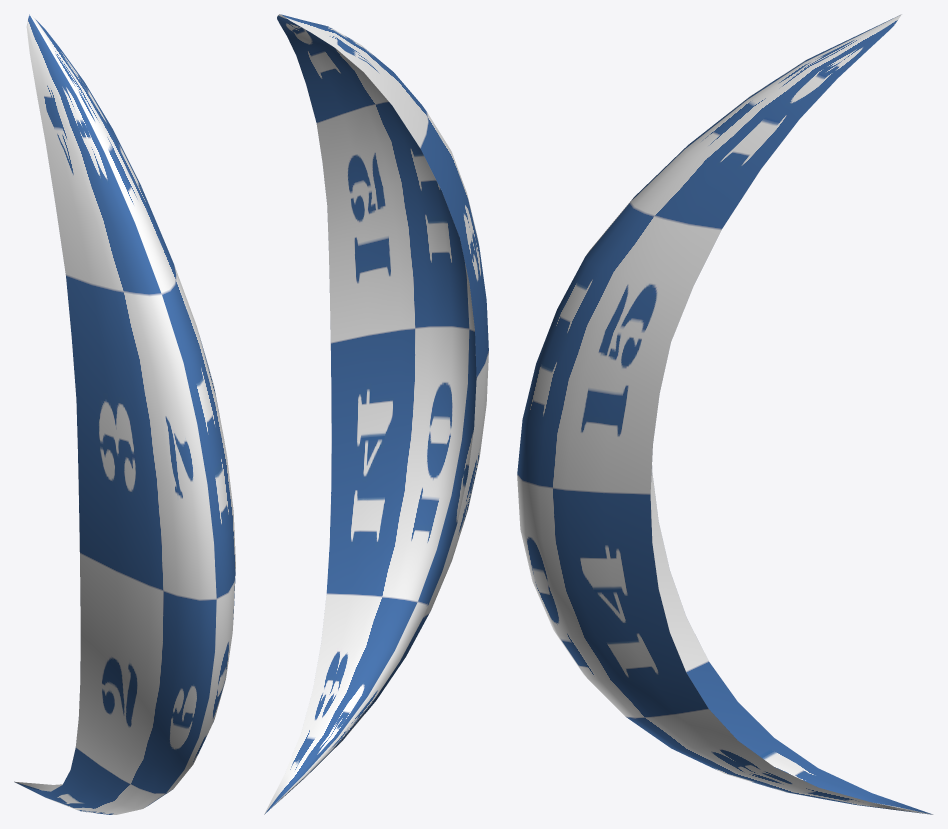
File: Ne_Spl_ClawTrail_01.fbx
3 renders of one model, left to right at view 1: azimuth 30°, elevation 25°; view 2: azimuth 150°, elevation 25°; view 3: azimuth 270°, elevation 25°, orthographic. The views are drawn at different scales.
Parts seen in each view (by area): view 1: SM_d_e_P0002_V00_C00_SplBkt_ClawTrail_01; view 2: SM_d_e_P0002_V00_C00_SplBkt_ClawTrail_01; view 3: SM_d_e_P0002_V00_C00_SplBkt_ClawTrail_01.
Part boxes in pixels (left/top/right/bottom): SM_d_e_P0002_V00_C00_SplBkt_ClawTrail_01: left=14, top=14, right=235, bottom=814; SM_d_e_P0002_V00_C00_SplBkt_ClawTrail_01: left=264, top=14, right=488, bottom=814; SM_d_e_P0002_V00_C00_SplBkt_ClawTrail_01: left=517, top=14, right=933, bottom=814.
Size of the model in its own units: 18.61 by 96.32 by 45.41.
